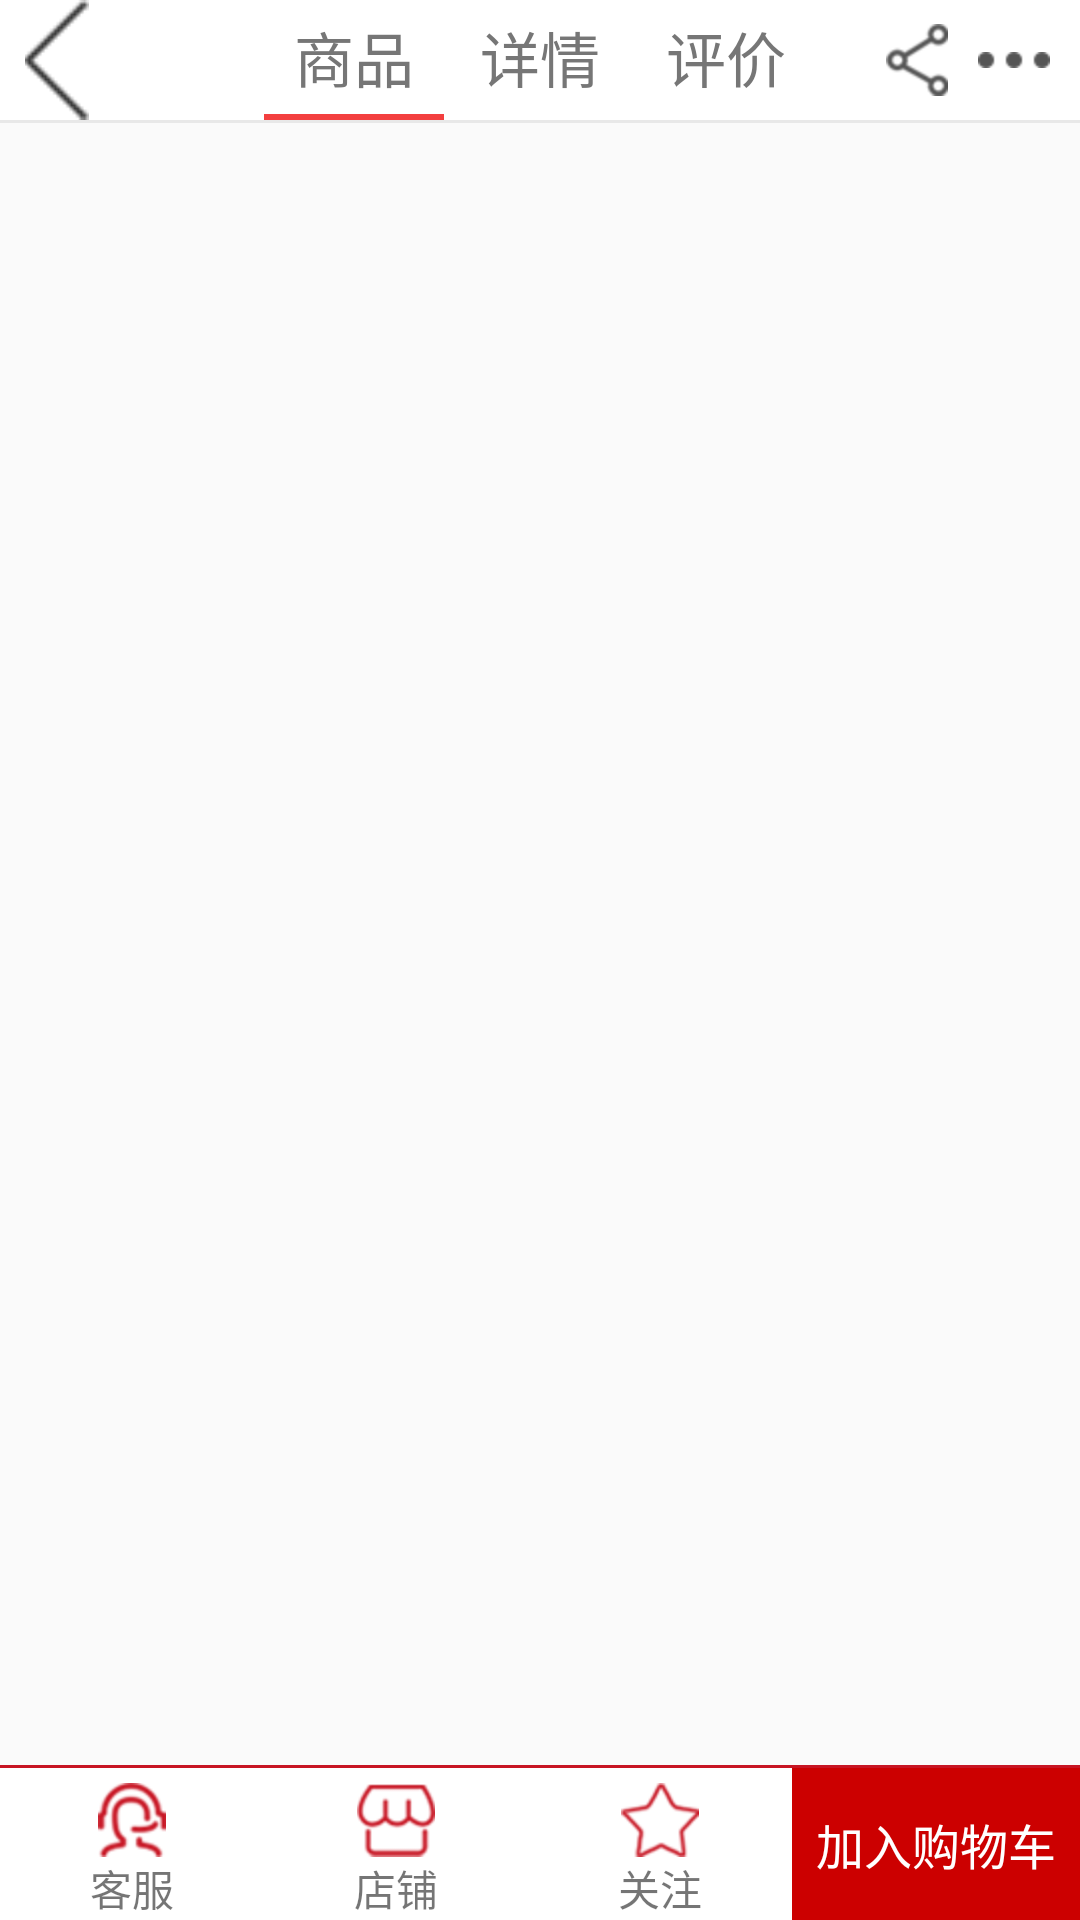

Named icons in this screenshot (1080px x 1920px) and their bounding boxes, box=[x1, y1, x2, y2]:
goback: box=[25, 0, 89, 120]
share: box=[886, 24, 948, 96]
